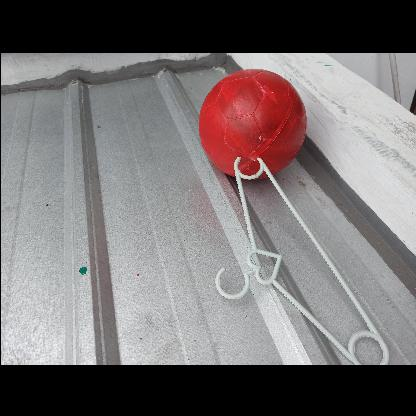red_ball: (195, 68, 305, 178)
